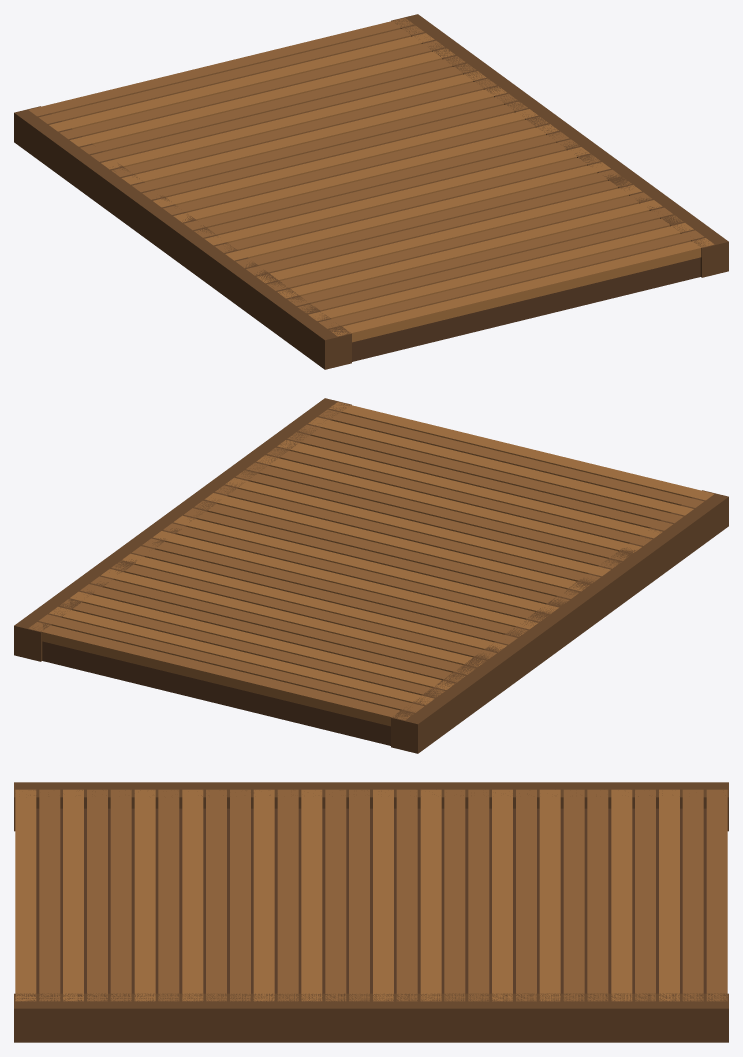
File: bridge-deck.glb
The picture shows the model from 3 angles, top to bottom: view 1: azimuth 30°, elevation 25°; view 2: azimuth 150°, elevation 25°; view 3: azimuth 270°, elevation 25°; orthographic projection. The views are drawn at different scales.
Parts seen in each view (by area): view 1: bridge-deck; view 2: bridge-deck; view 3: bridge-deck.
Part boxes in pixels (x1=…): bridge-deck: x1=14, y1=14, x2=728, y2=369; bridge-deck: x1=14, y1=398, x2=728, y2=753; bridge-deck: x1=14, y1=782, x2=728, y2=1042.
Size of the model in its own units: 9 by 0.63 by 12.
